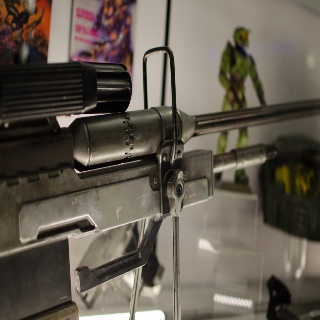rifle: (1, 44, 320, 257)
